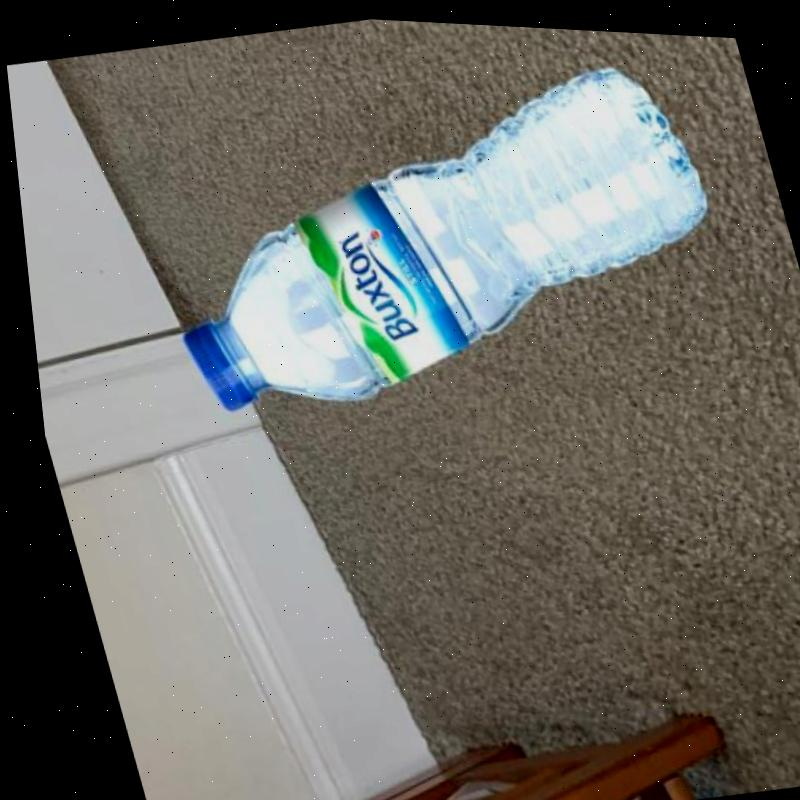botella: (114, 30, 750, 442)
